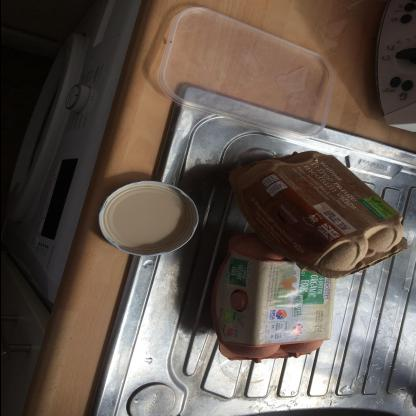karton: (227, 150, 409, 281), (210, 233, 336, 363)
metal: (96, 180, 198, 258)
plastik: (155, 6, 335, 140)
